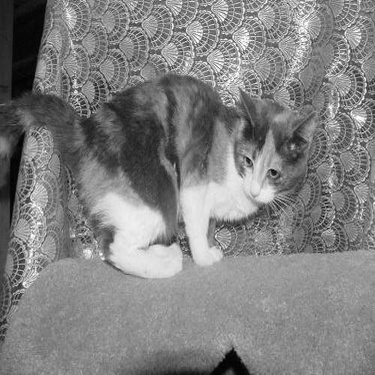cat: (5, 56, 332, 251)
